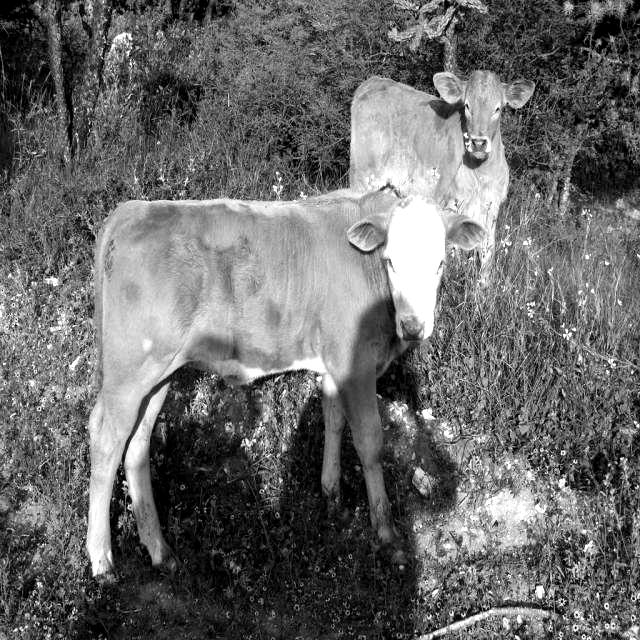COW: (86, 191, 482, 576), (350, 70, 535, 279)
